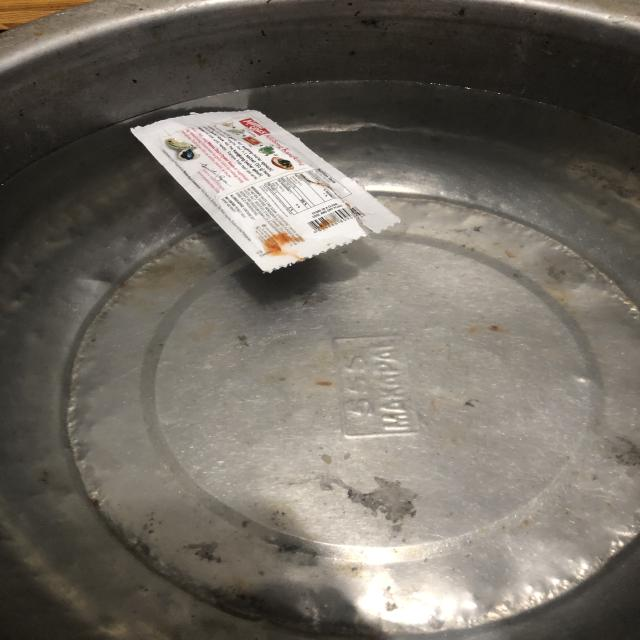Plastic Wrapper: (131, 110, 400, 272)
